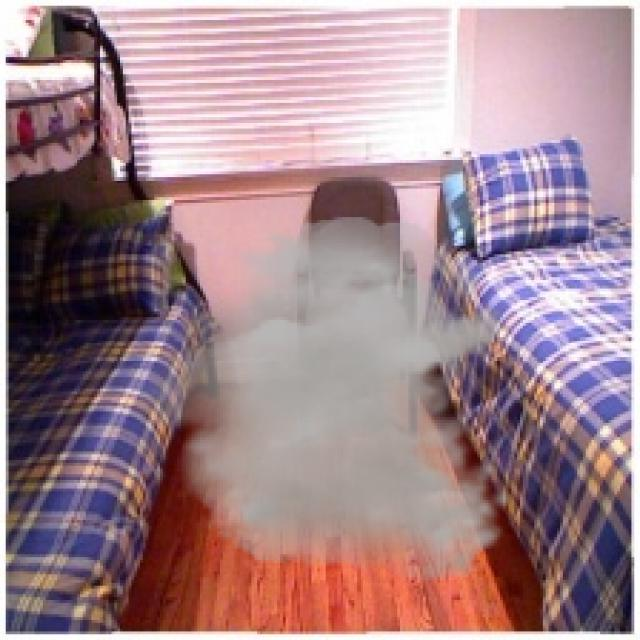smoke: (129, 217, 514, 583)
